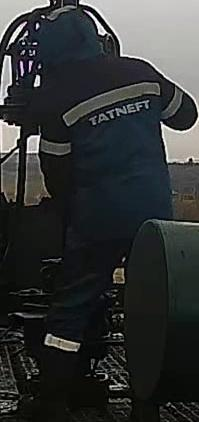vest: (33, 56, 180, 243)
